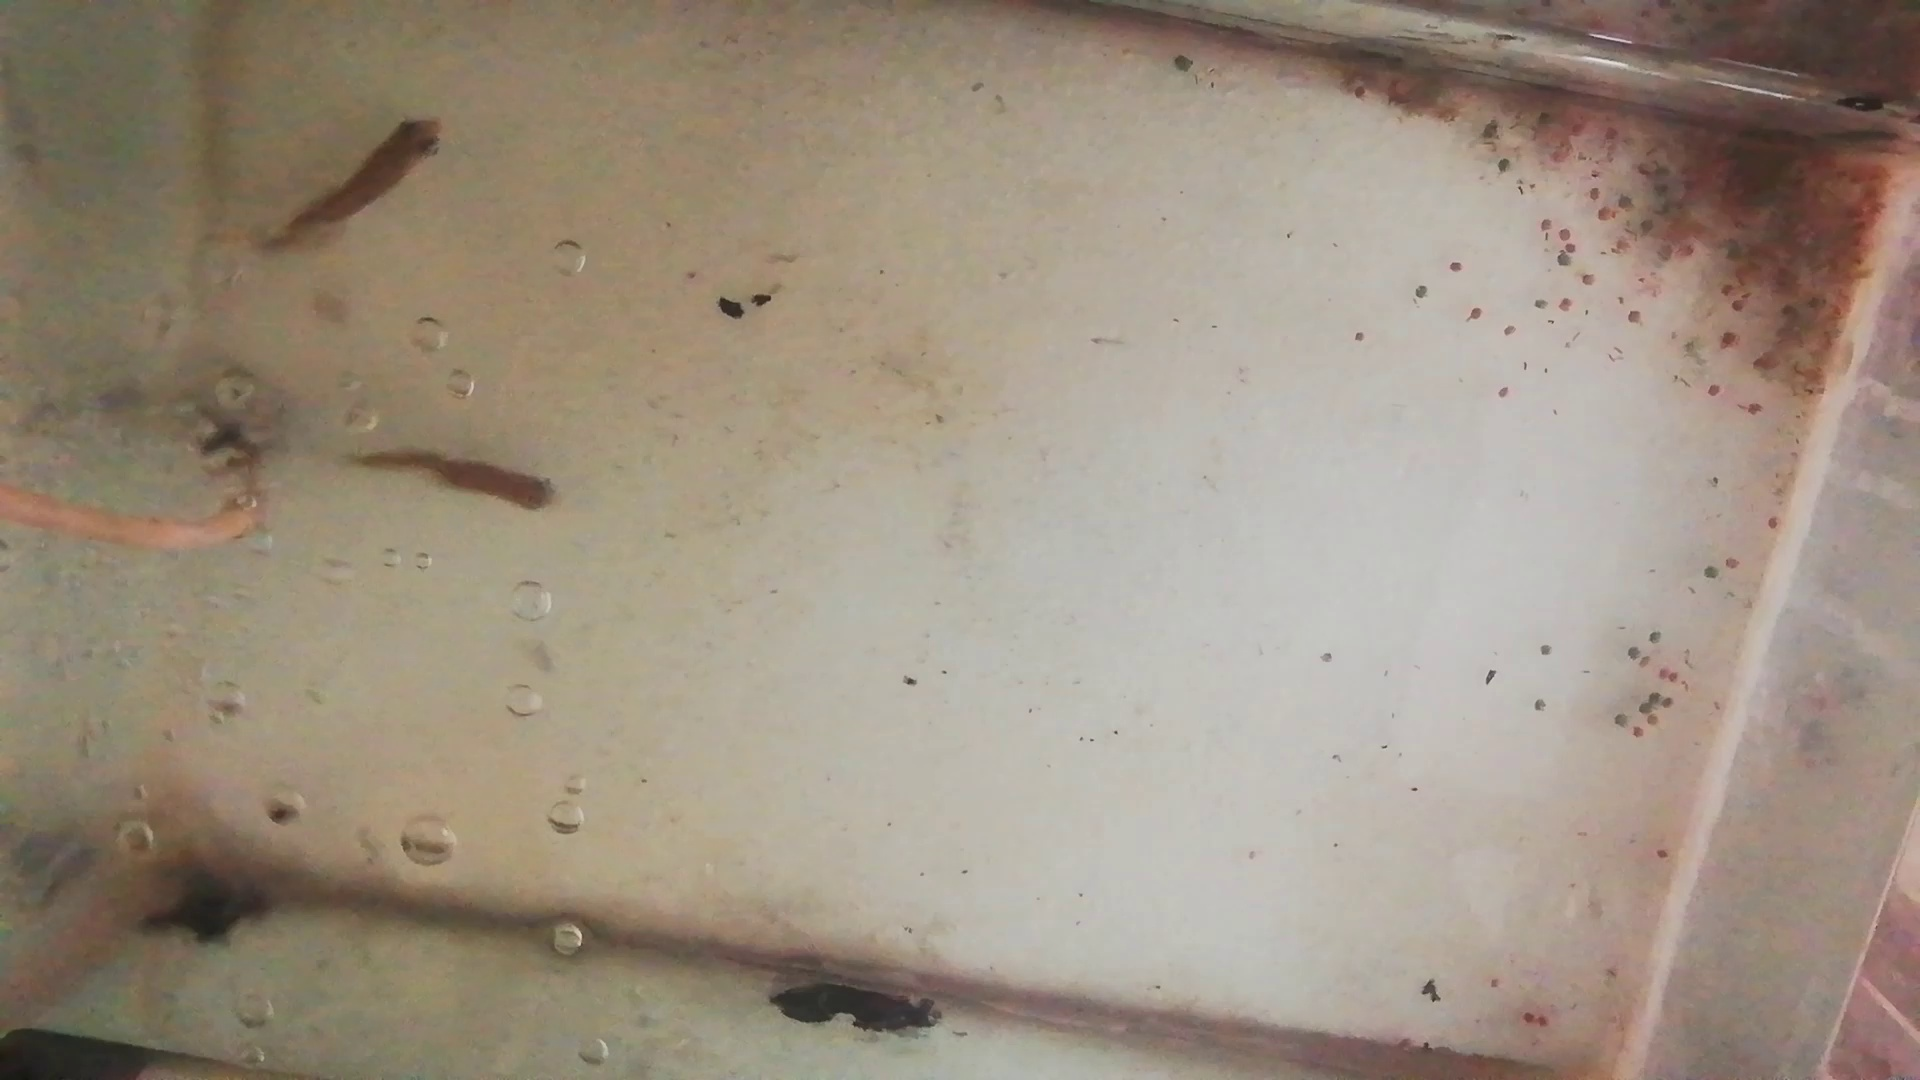fish: (262, 117, 446, 243), (343, 444, 558, 513)
